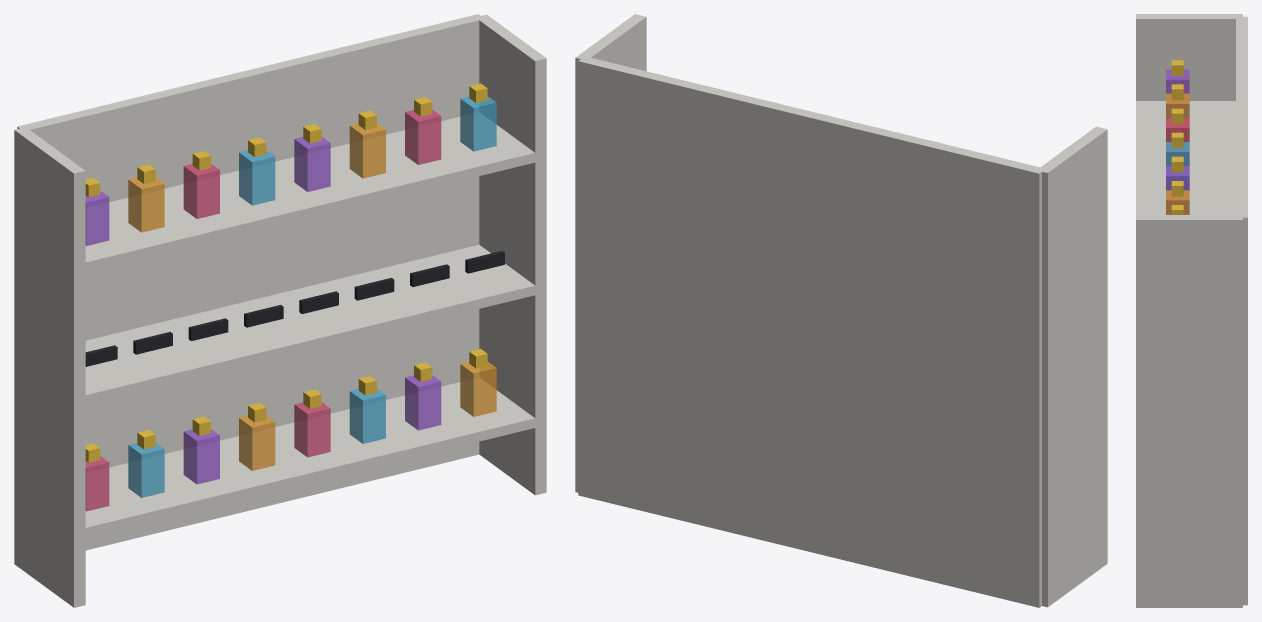
The model's file is duty_free_shelf.glb.
3 renders of one model, left to right at view 1: azimuth 30°, elevation 25°; view 2: azimuth 150°, elevation 25°; view 3: azimuth 270°, elevation 25°, orthographic. The views are drawn at different scales.
Visible parts, largest first — view 1: frame_shelf_white, shelves_shelf_white, bottles, caps_perfume_gold; view 2: frame_shelf_white; view 3: frame_shelf_white, shelves_shelf_white, bottles, caps_perfume_gold.
Boxes of the visible parts, x1=… form: frame_shelf_white: x1=14, y1=14, x2=546, y2=607; shelves_shelf_white: x1=80, y1=112, x2=540, y2=538; bottles: x1=85, y1=96, x2=496, y2=511; caps_perfume_gold: x1=85, y1=83, x2=487, y2=462; frame_shelf_white: x1=575, y1=14, x2=1107, y2=607; frame_shelf_white: x1=1136, y1=14, x2=1247, y2=607; shelves_shelf_white: x1=1136, y1=101, x2=1235, y2=214; bottles: x1=1166, y1=69, x2=1189, y2=214; caps_perfume_gold: x1=1171, y1=60, x2=1183, y2=214.
Bounding box in the file's own units: 2.05 × 1.8 × 0.47.
